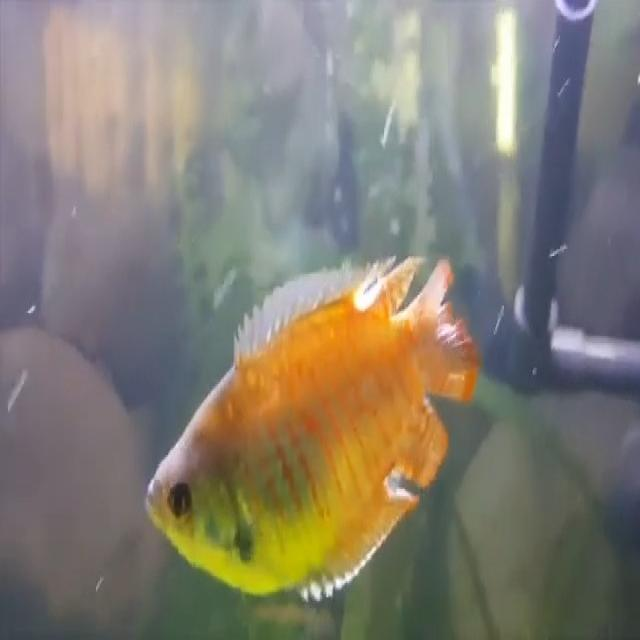fish: (143, 246, 480, 605)
